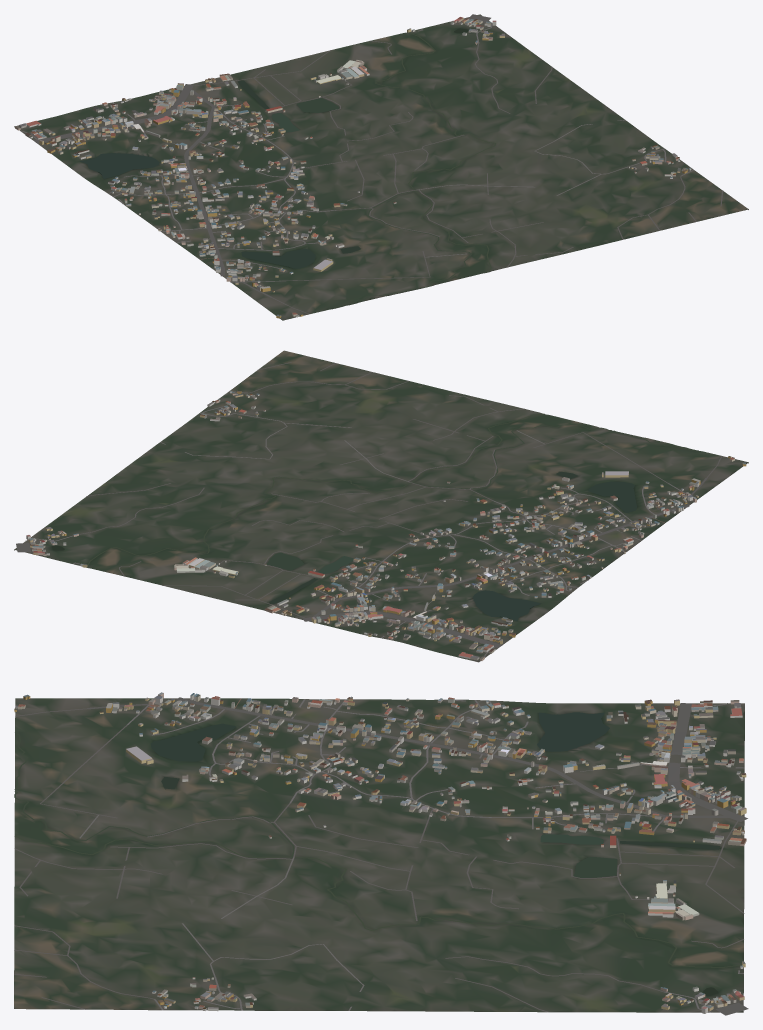
3 renders of one model, top to bottom at view 1: azimuth 30°, elevation 25°; view 2: azimuth 150°, elevation 25°; view 3: azimuth 270°, elevation 25°, orthographic. The views are drawn at different scales.
Parts seen in each view (by area): view 1: ground, buildings, roads, water; view 2: ground, buildings, roads, water; view 3: ground, buildings, roads, water.
Boxes of the visible parts, x1,y1,x2,y2 form: ground: (14,14,748,320); buildings: (15,17,691,318); roads: (20,14,723,314); water: (80,28,495,308); ground: (14,350,748,662); buildings: (26,390,746,660); roads: (16,362,722,657); water: (52,413,698,621); ground: (14,698,744,1012); buildings: (14,692,746,1013); roads: (14,697,748,1015); water: (14,712,741,995).
Size of the model in its own units: 1422 by 29.52 by 1412.
